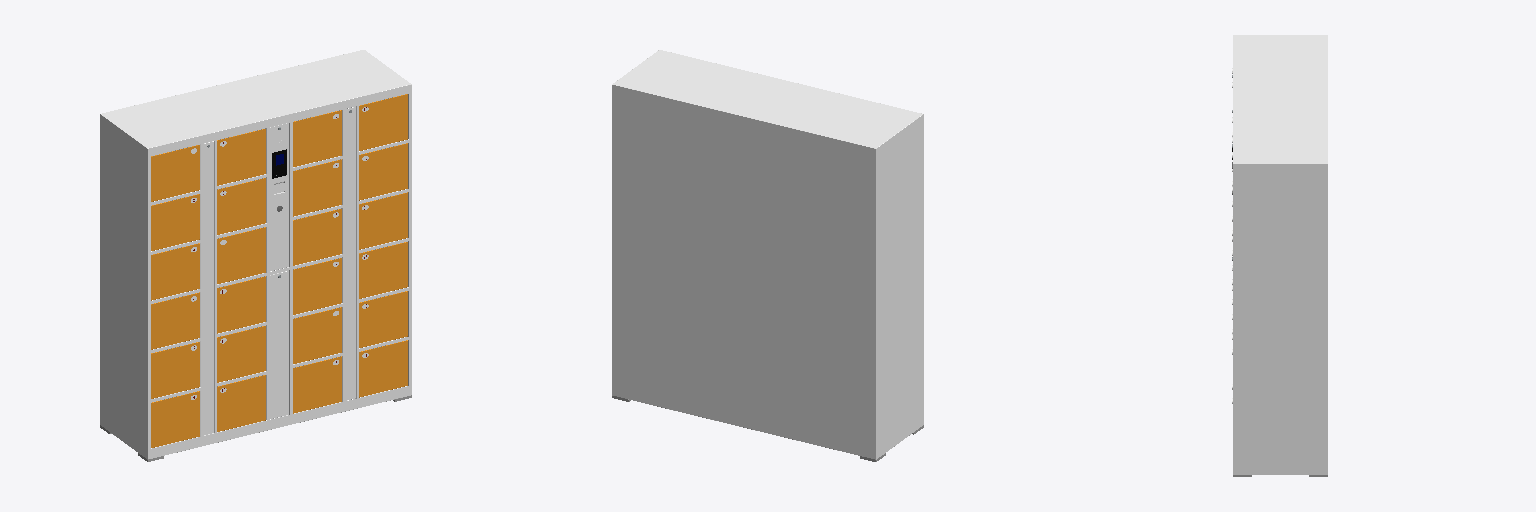
Rendered from cbg1.obj.
The picture shows the model from 3 angles: view 1: azimuth 30°, elevation 25°; view 2: azimuth 150°, elevation 25°; view 3: azimuth 270°, elevation 25°; orthographic projection.
Parts seen in each view (by area): view 1: 实体1, 实体30, 实体31, 实体32, 实体120, 实体17, 实体12, 实体13, 实体14, 实体18, 实体20, 实体8 (+17 smaller); view 2: 实体1; view 3: 实体1.
Boxes of the visible parts, box(x1,y1,x2,y2) form: 实体1: box(100, 50, 411, 459); 实体30: box(203, 141, 213, 435); 实体31: box(345, 107, 355, 400); 实体32: box(270, 271, 288, 418); 实体120: box(270, 123, 288, 270); 实体17: box(151, 391, 199, 447); 实体12: box(217, 375, 265, 431); 实体13: box(151, 194, 199, 250); 实体14: box(151, 243, 199, 300); 实体18: box(359, 94, 407, 150); 实体20: box(293, 110, 341, 166); 实体8: box(217, 178, 265, 234); 实体1: box(612, 50, 923, 459); 实体1: box(1233, 35, 1327, 474).
Bounding box in the file's own units: 1600 × 1815 × 502.